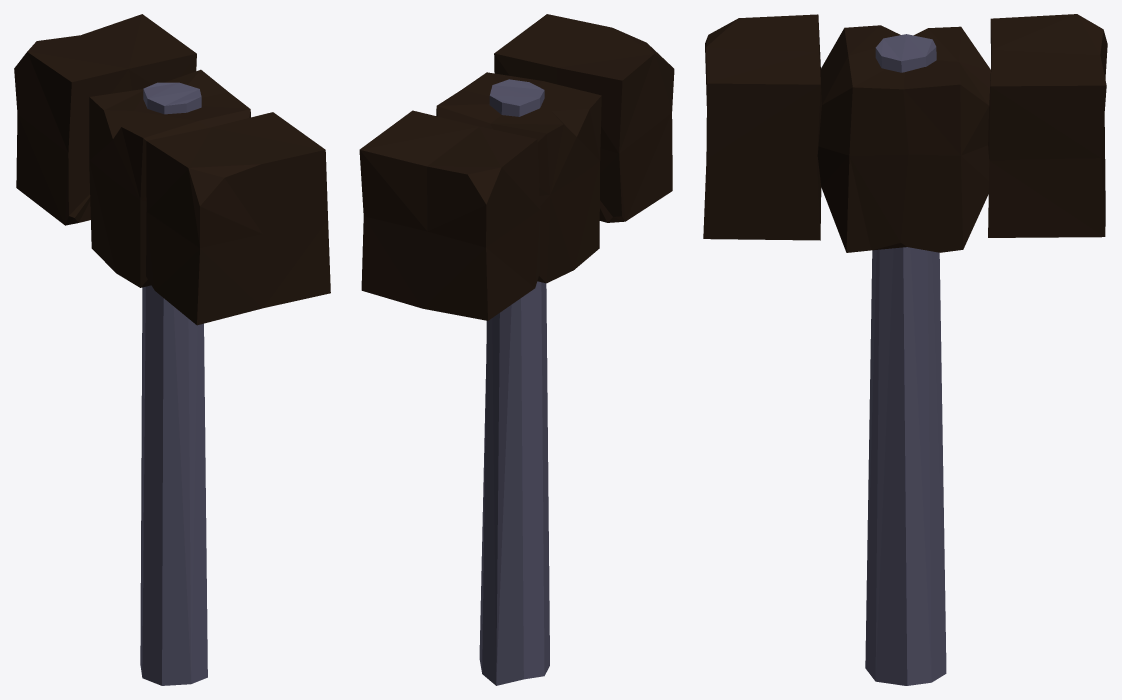
File: SFFA_Hammer_008.fbx
The picture shows the model from 3 angles, left to right: view 1: azimuth 30°, elevation 25°; view 2: azimuth 150°, elevation 25°; view 3: azimuth 270°, elevation 25°; orthographic projection. The views are drawn at different scales.
Visible parts, largest first — view 1: SFFA_Hammer_008; view 2: SFFA_Hammer_008; view 3: SFFA_Hammer_008.
Boxes of the visible parts, x1,y1,x2,y2 form: SFFA_Hammer_008: [14, 14, 330, 685]; SFFA_Hammer_008: [359, 14, 674, 685]; SFFA_Hammer_008: [703, 14, 1107, 685].
Bounding box in the file's own units: 6.36 × 27.11 × 15.84.
